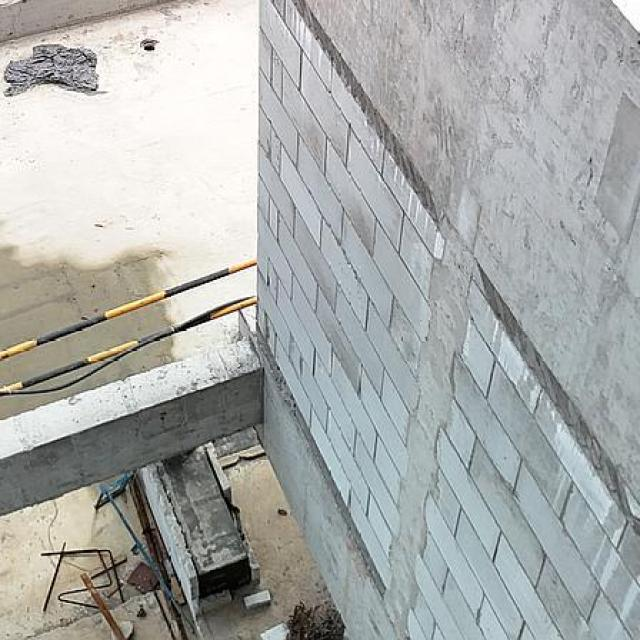edge_guardrail: (0, 256, 259, 395)
